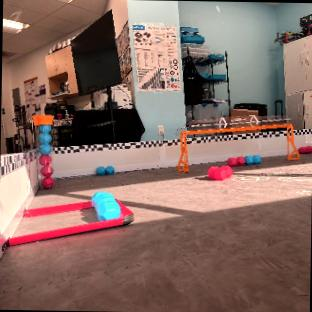V5_BLUE: (91, 192, 119, 219), (40, 125, 51, 175), (96, 166, 113, 175), (245, 154, 260, 163)
V5_RED: (39, 154, 52, 187), (208, 165, 231, 180), (228, 157, 244, 165), (298, 146, 312, 152)
